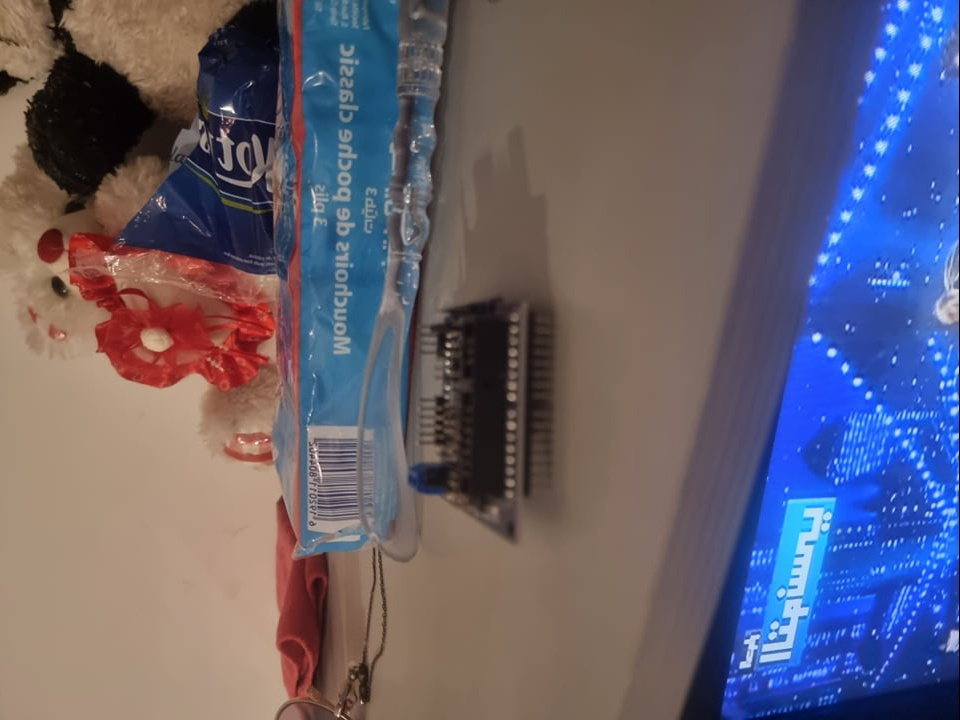5V EXPANSION: (407, 301, 553, 546)
